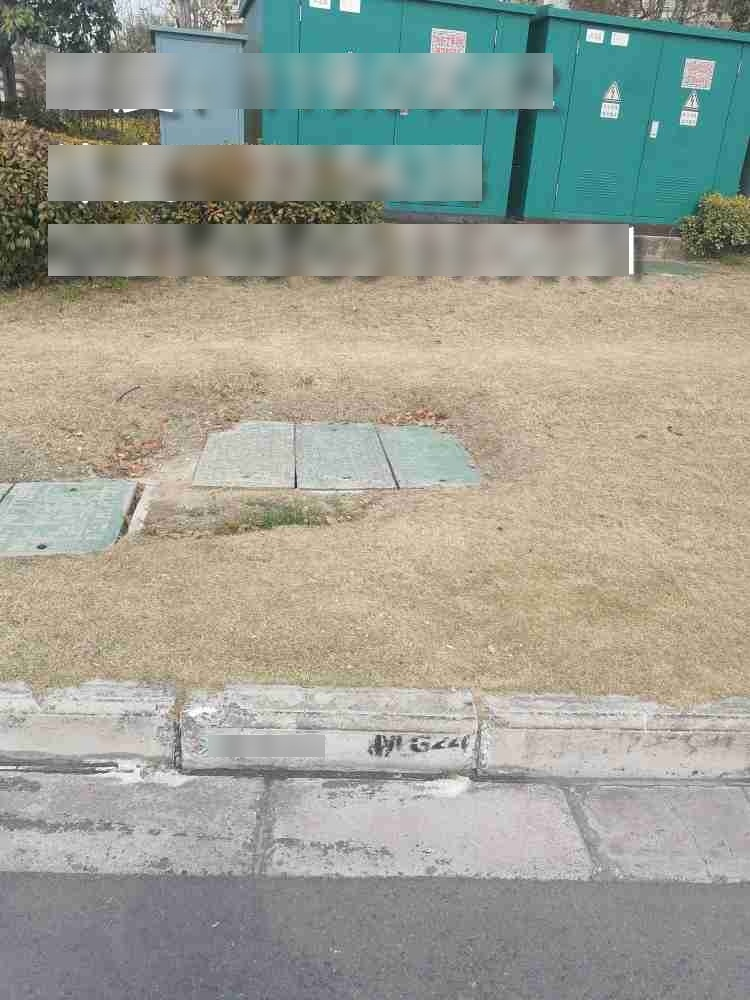good: (191, 412, 487, 492), (1, 478, 156, 556)
